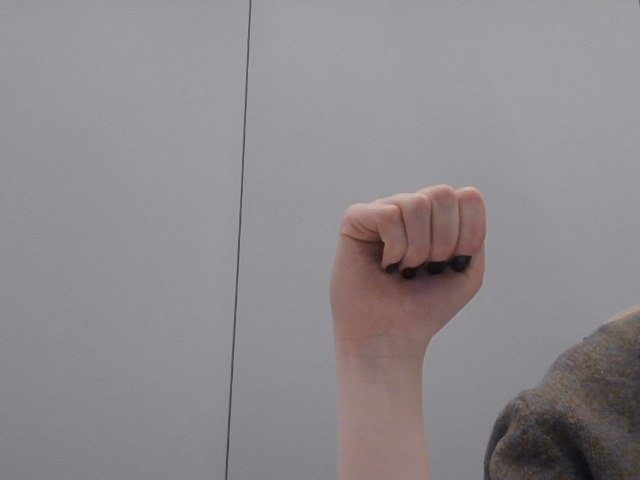down: (306, 175, 510, 392)
